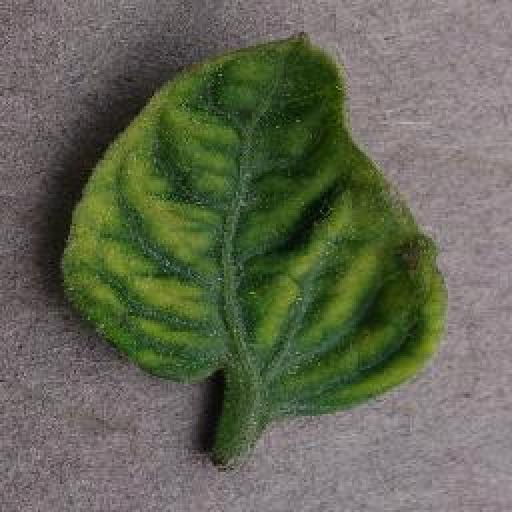disease_tomato: (55, 36, 448, 418)
